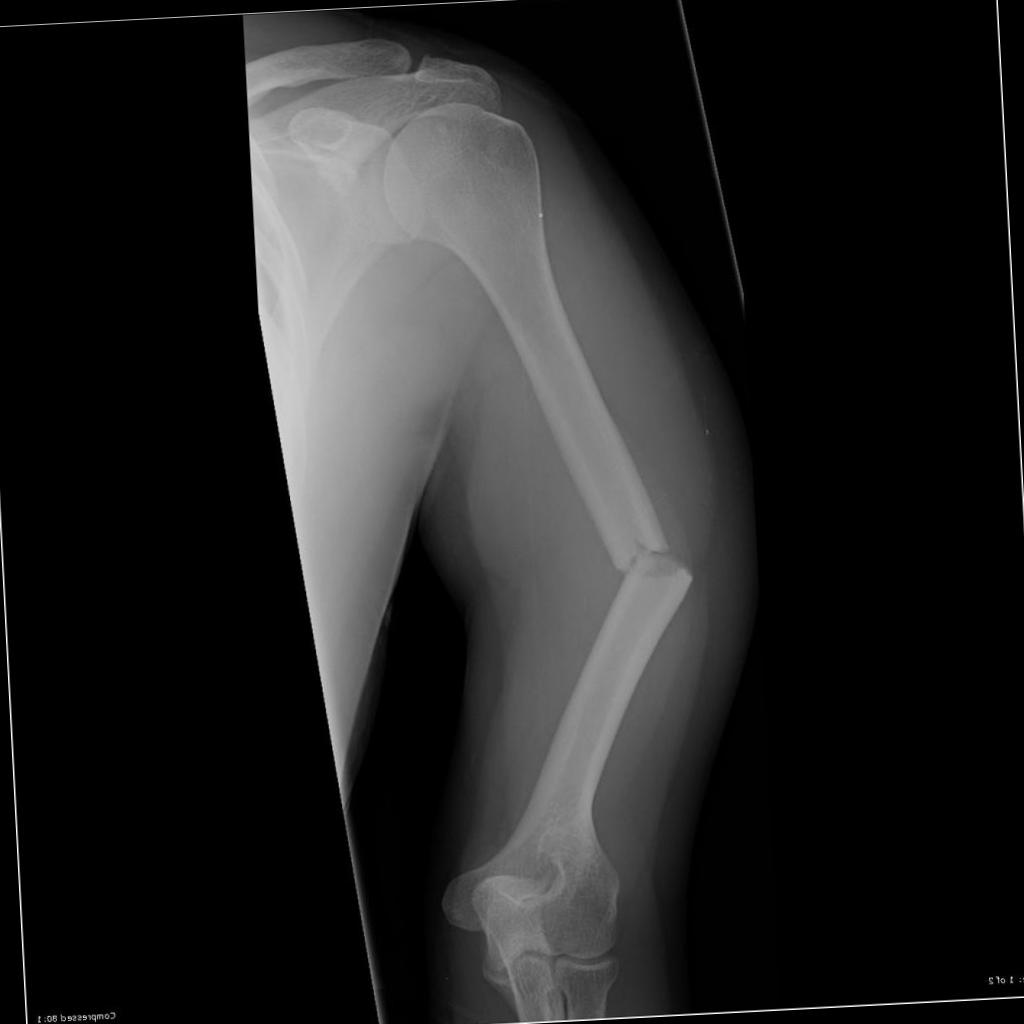messed_up_angle: (606, 536, 700, 593)
